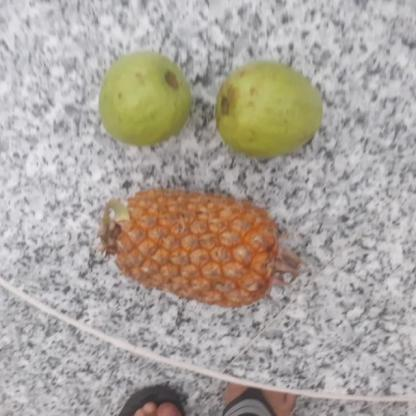guava: (212, 62, 323, 154), (96, 54, 193, 147)
pineapple: (88, 188, 284, 309)
